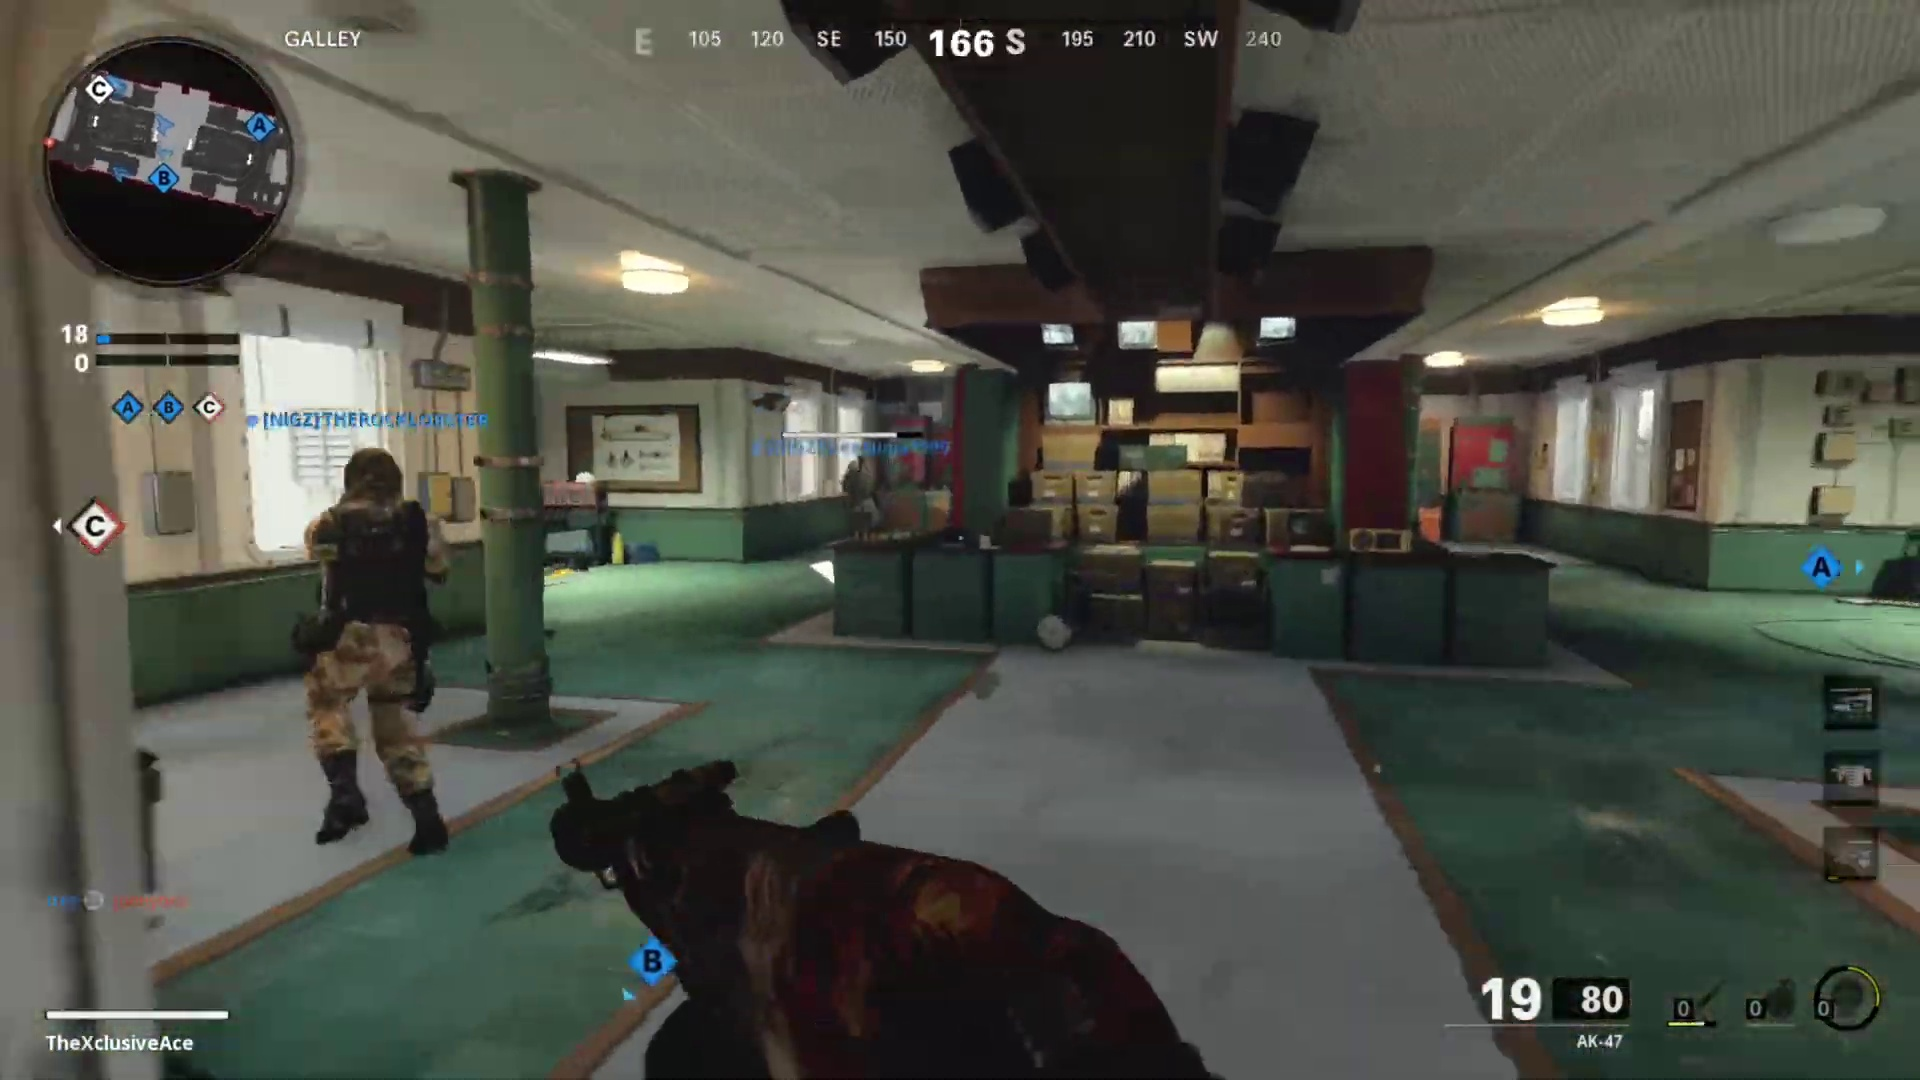head: (334, 449, 406, 511), (842, 457, 865, 477)
person: (287, 440, 454, 860), (839, 454, 883, 515)
